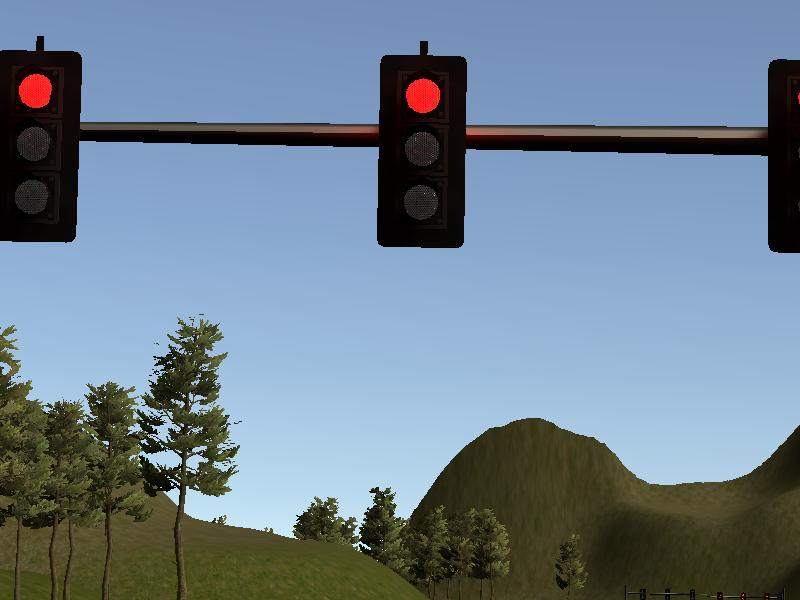red: (378, 53, 467, 248), (1, 49, 82, 242)
